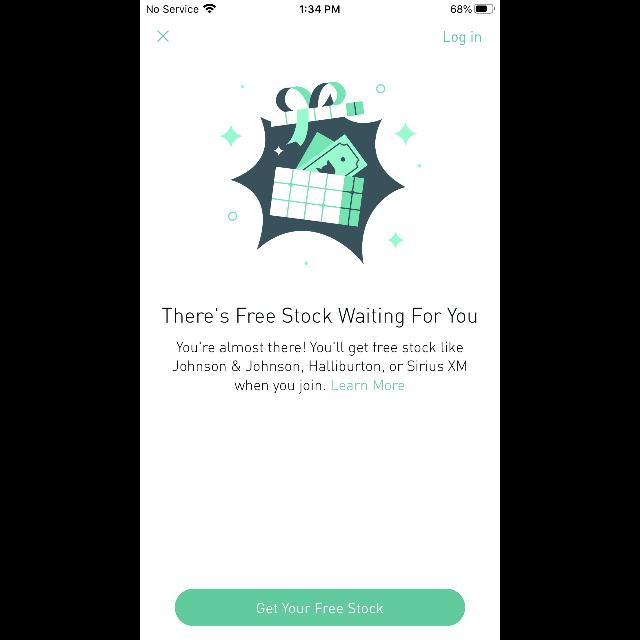icon: (158, 30, 168, 42)
image: (219, 82, 421, 264)
text: (172, 342, 466, 394), (162, 308, 476, 328), (444, 31, 481, 45)
textbutton: (175, 588, 465, 626)
uppertaskbar: (140, 0, 500, 14)
